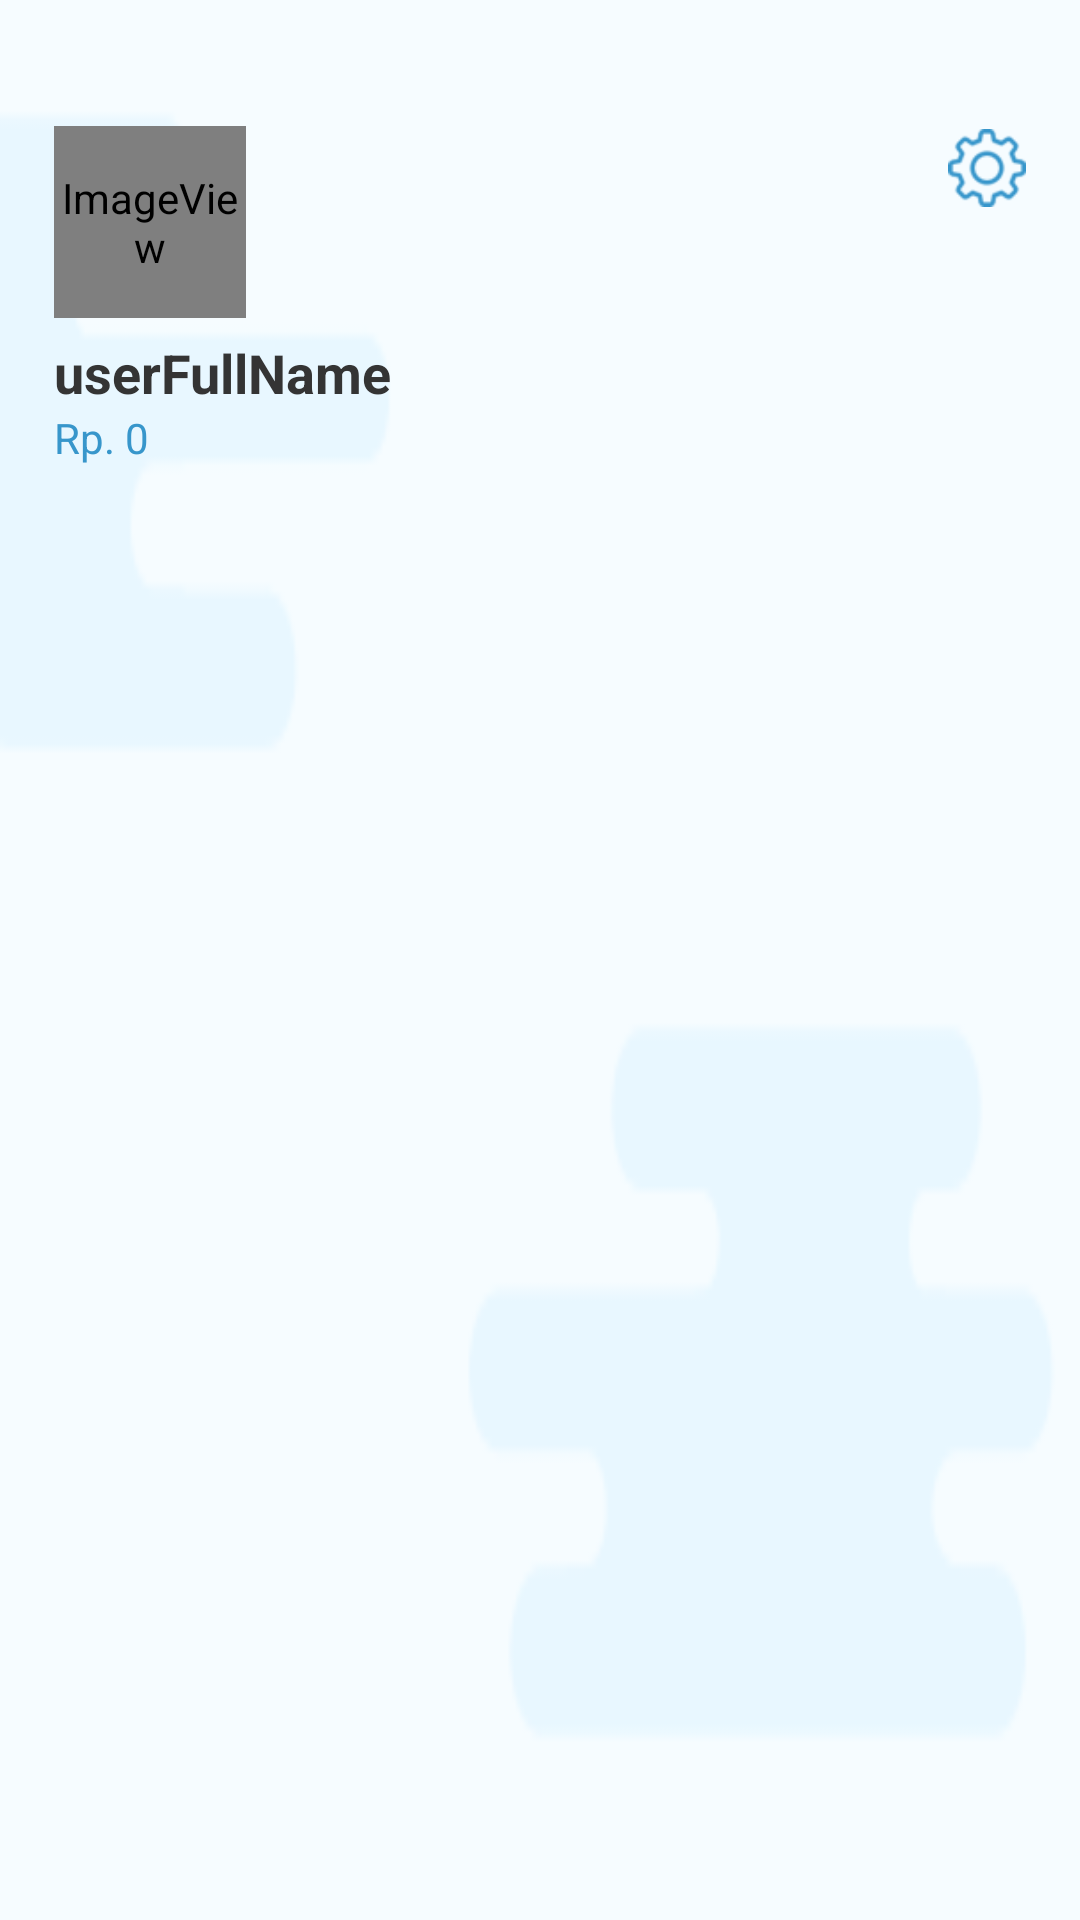

Icon bounding boxes for this 1080 × 1920 phone screenshot, format [x1,y1,x2,y2]:
setting: [948,129,1026,207]
